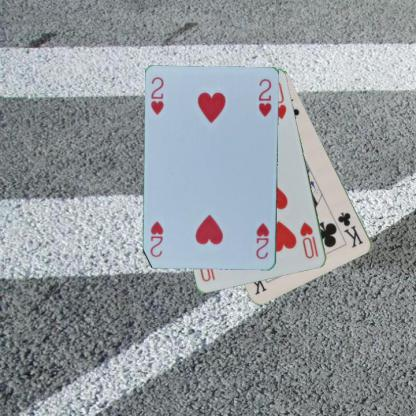10h: (298, 220, 320, 260)
2h: (148, 74, 166, 116), (254, 220, 271, 261)
Kc: (335, 209, 365, 250)
